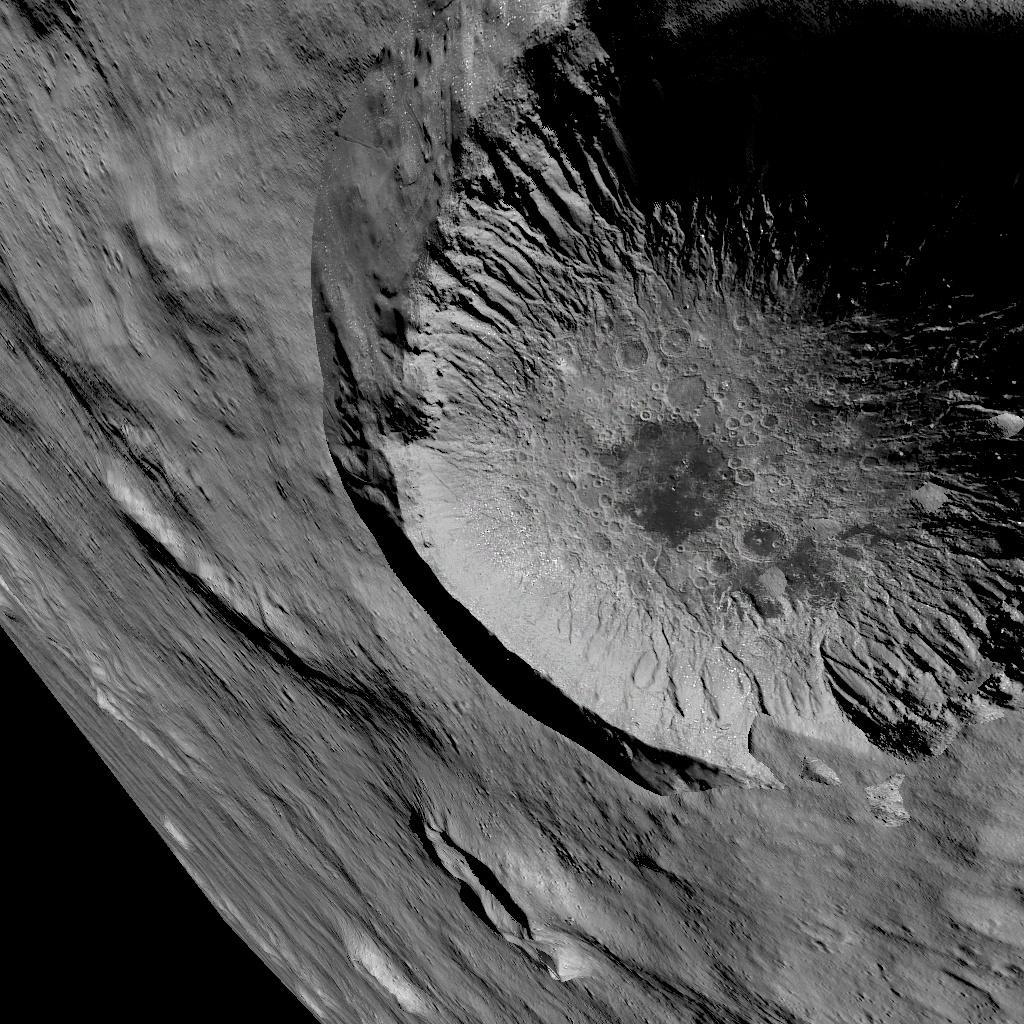Crater: (302, 0, 1024, 777), (389, 792, 560, 964)
Plan surface: (597, 790, 1024, 1024)
